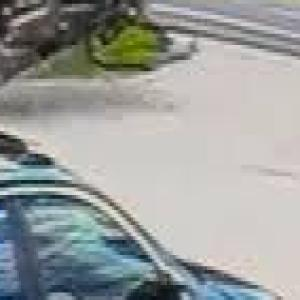serious: (0, 0, 165, 82)
